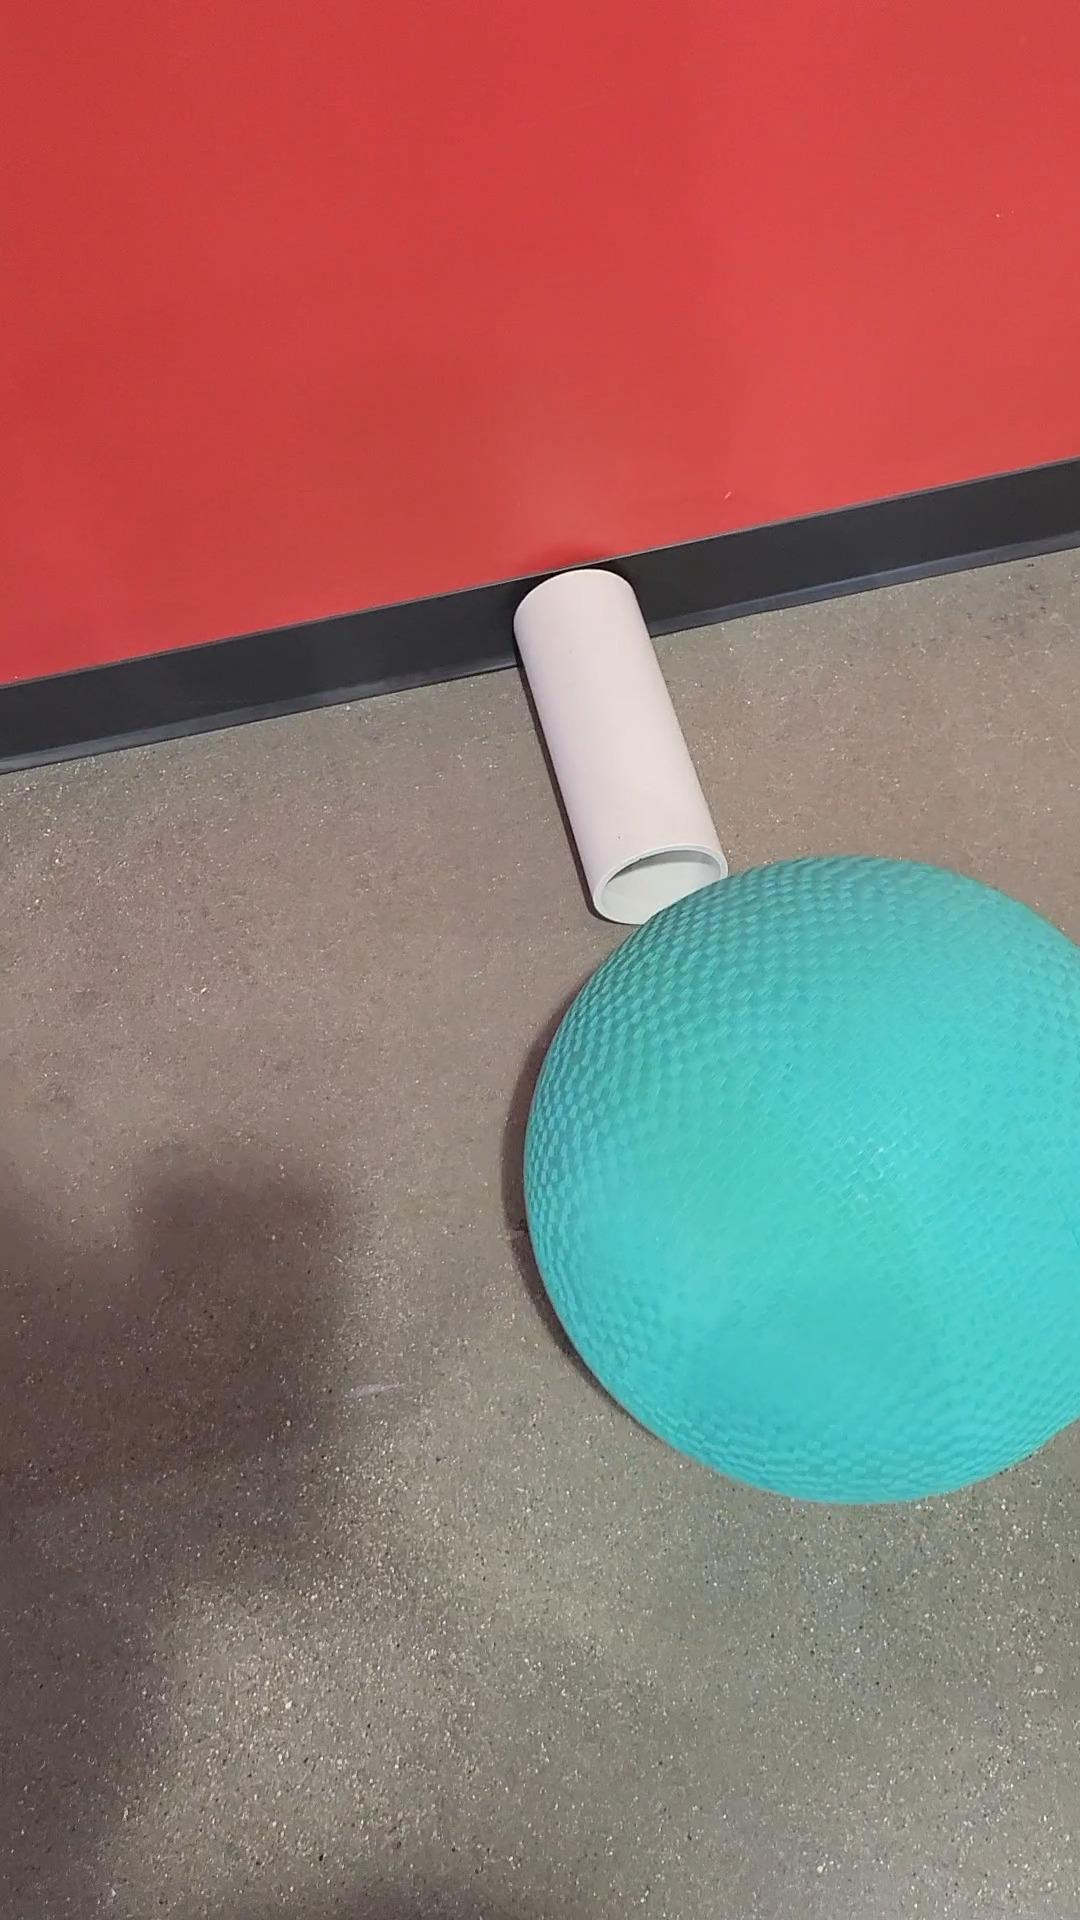algae: (498, 851, 1079, 1520)
coral: (465, 556, 738, 936)
